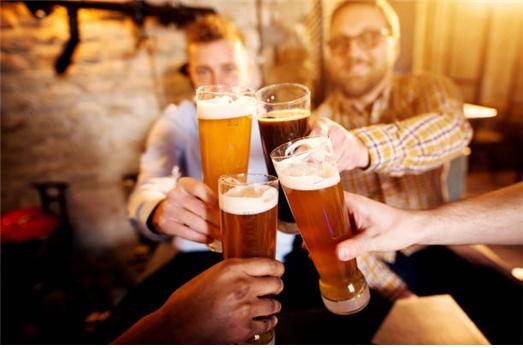alcohol: (271, 141, 372, 317), (217, 173, 279, 348), (195, 84, 255, 253), (256, 84, 310, 189)
